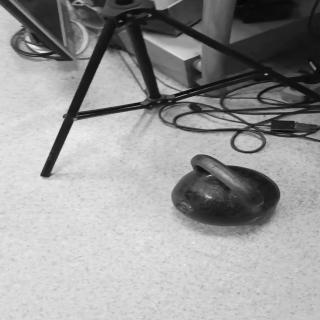girya: (172, 155, 282, 227)
